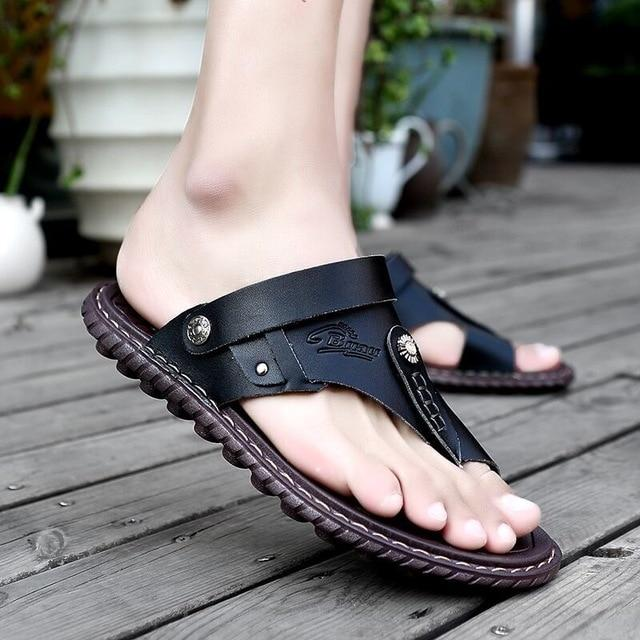Sandals: (102, 190, 560, 595)
